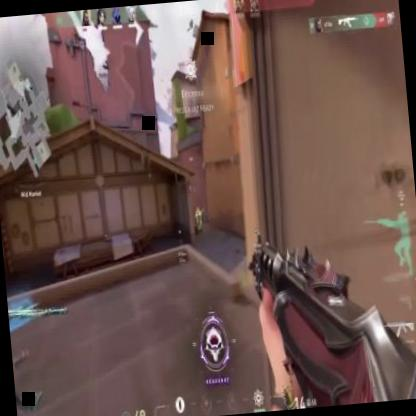enemy: (194, 205, 204, 233)
enemy_head: (196, 206, 200, 213)
